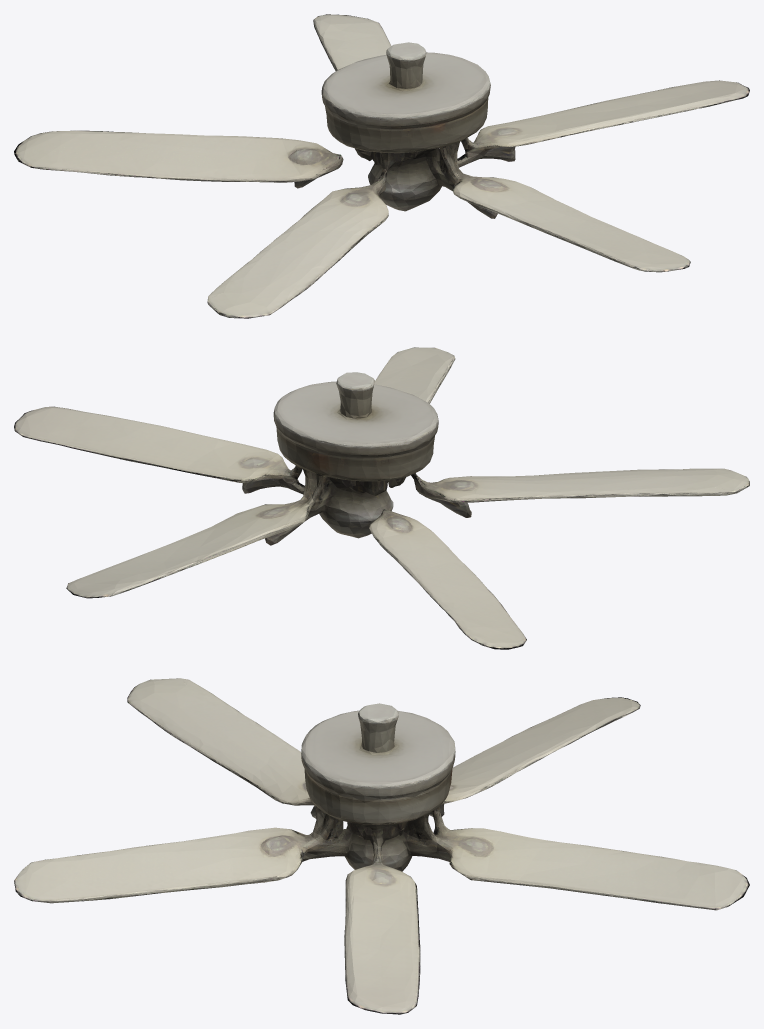
File: fan.glb
3 views of the same model, one above another, from view 1: azimuth 30°, elevation 25°; view 2: azimuth 150°, elevation 25°; view 3: azimuth 270°, elevation 25° (orthographic). The views are drawn at different scales.
Visible parts, largest first — view 1: world; view 2: world; view 3: world.
Boxes of the visible parts, box(x1,y1,x2,y2) form: world: box(14, 14, 749, 318); world: box(14, 347, 749, 649); world: box(14, 678, 749, 1014).
Bounding box in the file's own units: 1 × 0.2397 × 0.9532.
1 material, 1 textured.
